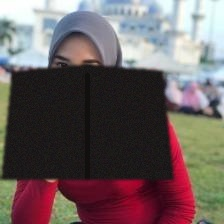Cadar_Niqab: (1, 7, 173, 179)
